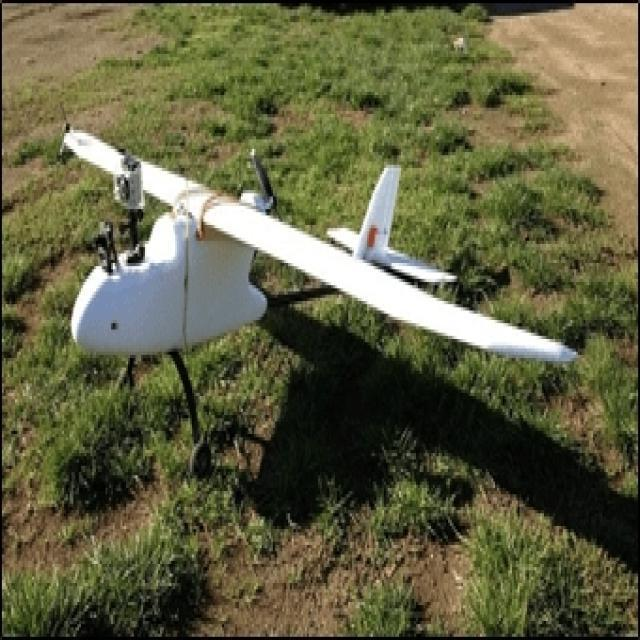iha: (45, 108, 589, 498)
